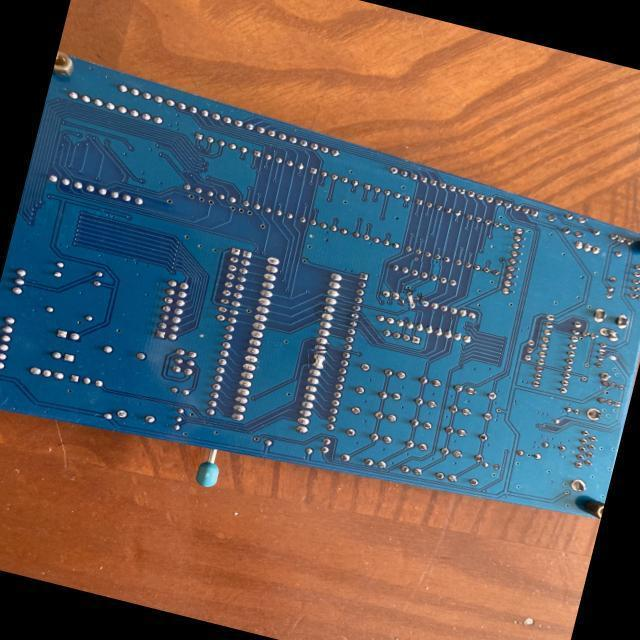damged: (308, 350, 328, 370), (402, 291, 420, 308)
